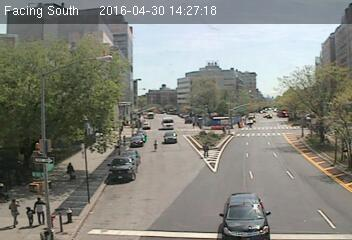neg: (263, 139, 304, 193), (308, 80, 343, 126), (196, 193, 225, 231), (154, 65, 179, 98), (283, 64, 308, 97), (316, 164, 340, 195), (127, 189, 149, 217), (164, 132, 185, 159), (128, 66, 145, 88), (136, 132, 152, 153), (216, 56, 227, 70)
pos: (28, 196, 49, 225), (19, 205, 39, 232), (61, 159, 79, 183), (197, 142, 213, 163), (246, 117, 257, 133)
